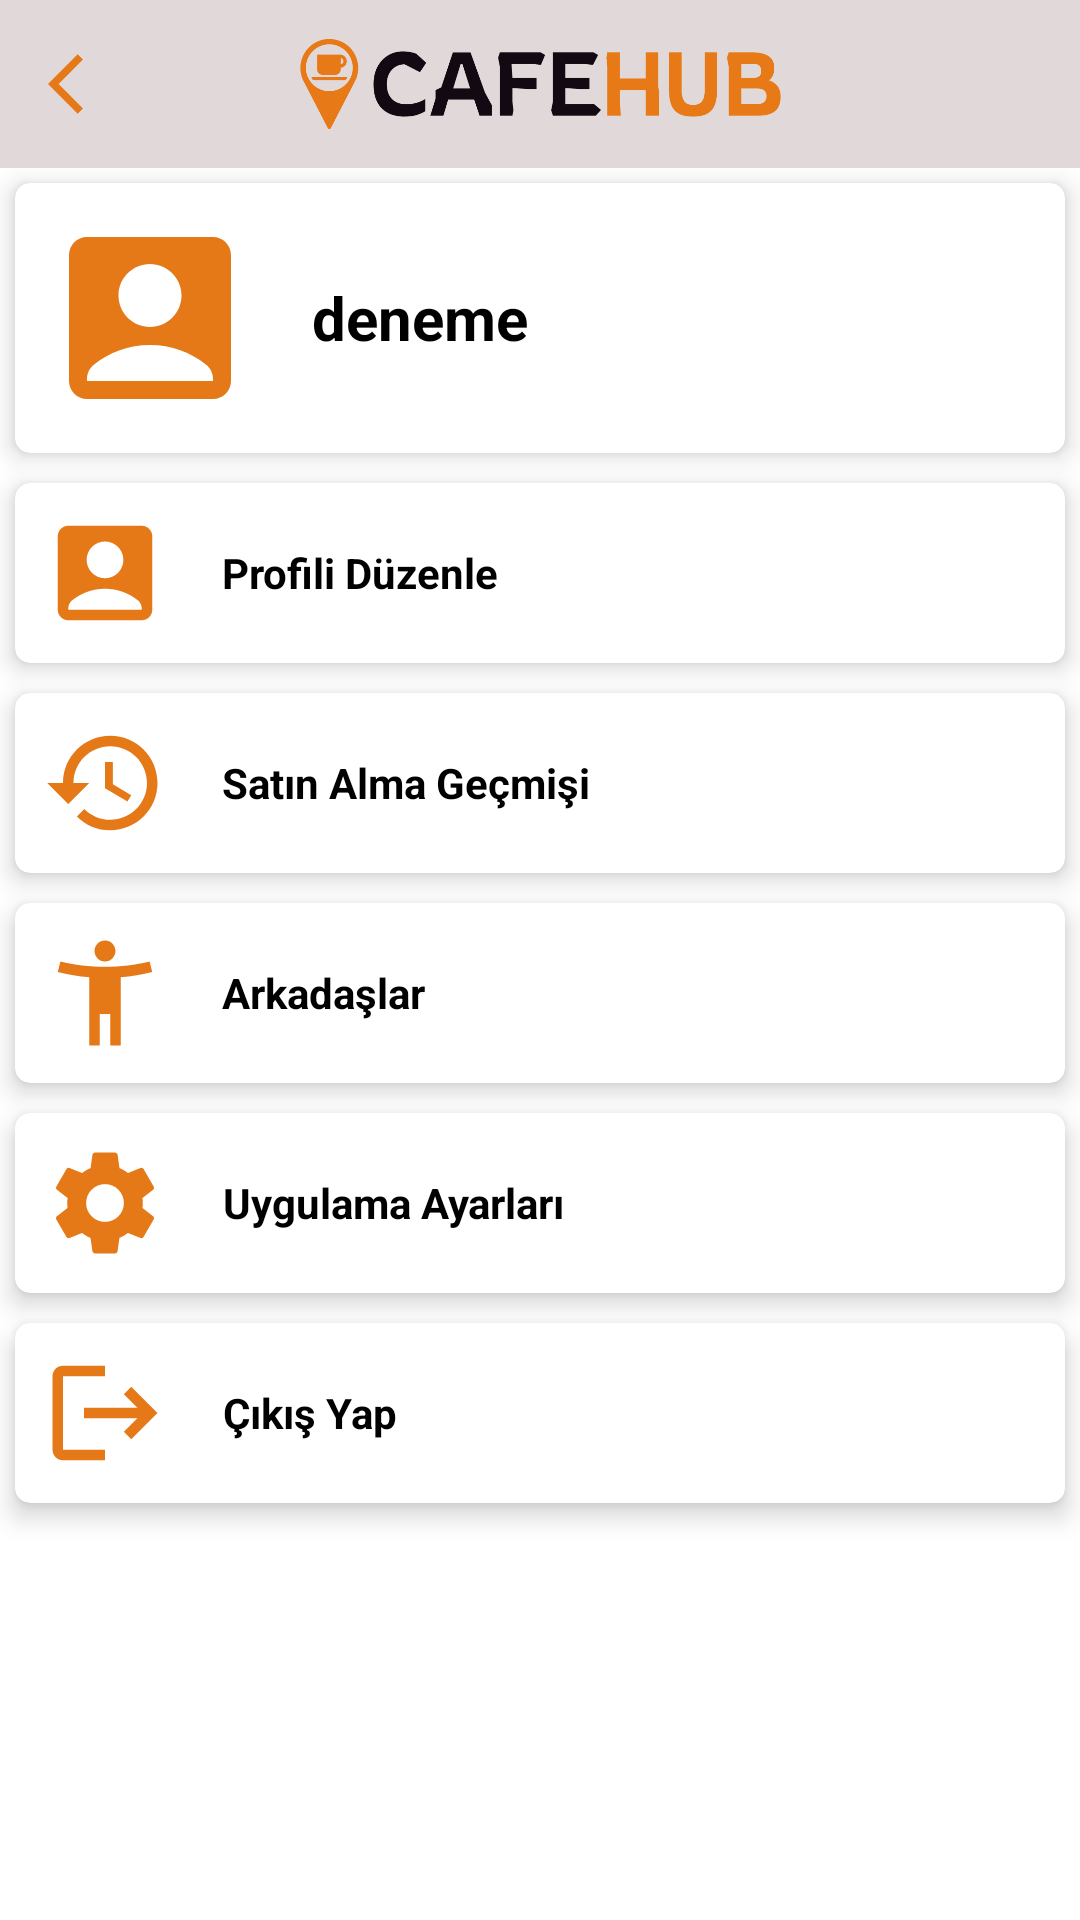

Icons on this 1080*1920 Android screen, each with its box as (x1, y1, x2, y2):
history: (47, 735, 158, 831)
settings: (56, 1152, 154, 1254)
user: (69, 237, 231, 399), (57, 525, 153, 621)
